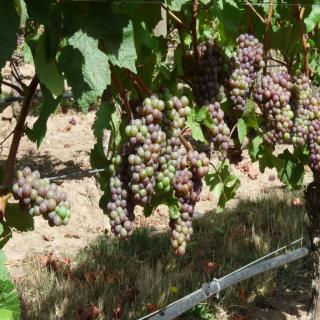Grape: (180, 36, 320, 171), (106, 86, 210, 254), (11, 167, 70, 227)
